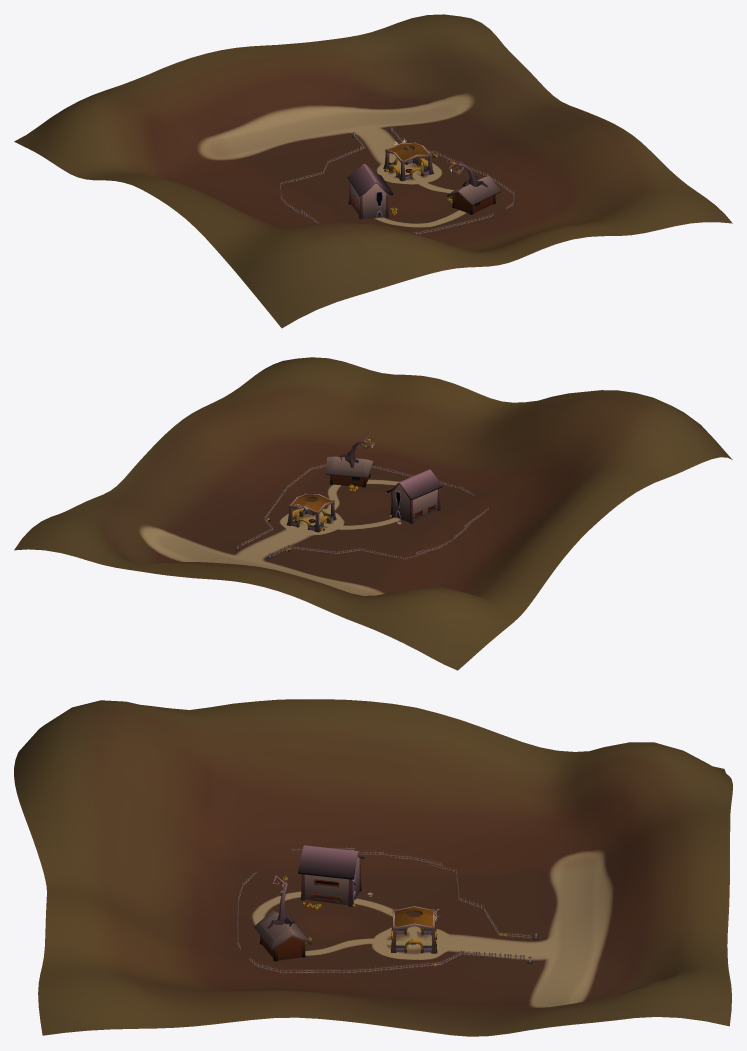
Rendered from OGLayoutForRealThisTime.glb.
3 views of the same model, one above another, from view 1: azimuth 30°, elevation 25°; view 2: azimuth 150°, elevation 25°; view 3: azimuth 270°, elevation 25° (orthographic). The views are drawn at different scales.
Parts seen in each view (by area): view 1: Plane, Cube.026, Cube.017, Cube.019; view 2: Plane, Cube.026, Cube.017; view 3: Plane, Cube.017, Cube.026, Cube.020, Cube.001.
Part boxes in pixels (x1,y1,x2,y2): Plane: (14, 14, 732, 328); Cube.026: (447, 176, 500, 213); Cube.017: (347, 164, 392, 196); Cube.019: (362, 184, 386, 218); Plane: (14, 357, 732, 670); Cube.026: (326, 456, 374, 486); Cube.017: (386, 469, 442, 500); Plane: (14, 699, 732, 1036); Cube.017: (298, 845, 364, 879); Cube.026: (254, 910, 311, 960); Cube.020: (304, 874, 348, 905); Cube.001: (394, 907, 433, 926).
Size of the model in its own units: 384 by 68.45 by 411.
9 materials, 8 textured.
